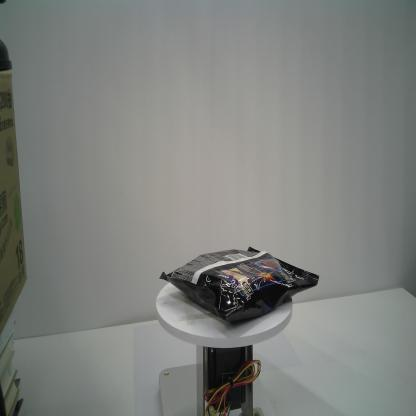Instant Noodles: (158, 244, 321, 328)
